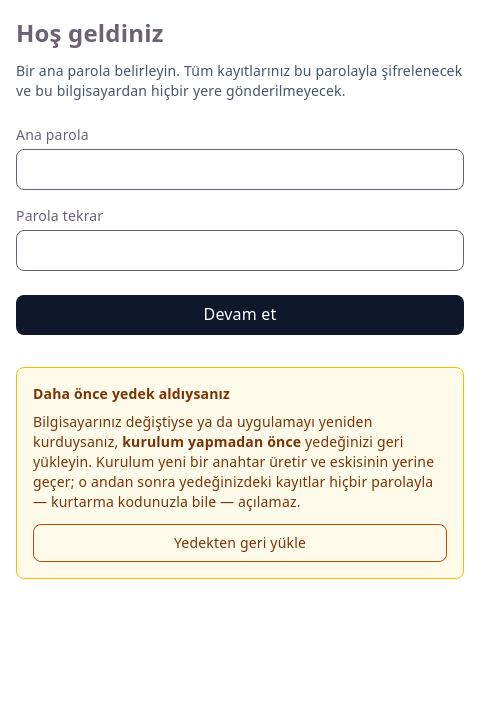
Test: App — bozuk veritabani geri yukleme ekranina duser (§8) › kurulum sihirbazi, KURULUM YAPMADAN geri yuklemeye bir yol acar
Check: the heading "Hoş geldiniz" is shown, box [16,16,164,49]
Click the button "Yedekten geri yükle". click: [240, 543]
box: [33,524,447,562]
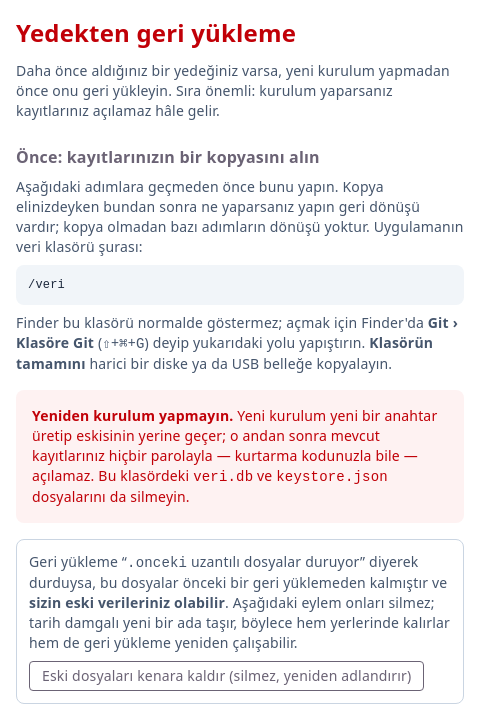
Check: the heading "Yedekten geri yükleme" is shown, box [16,16,296,49]
